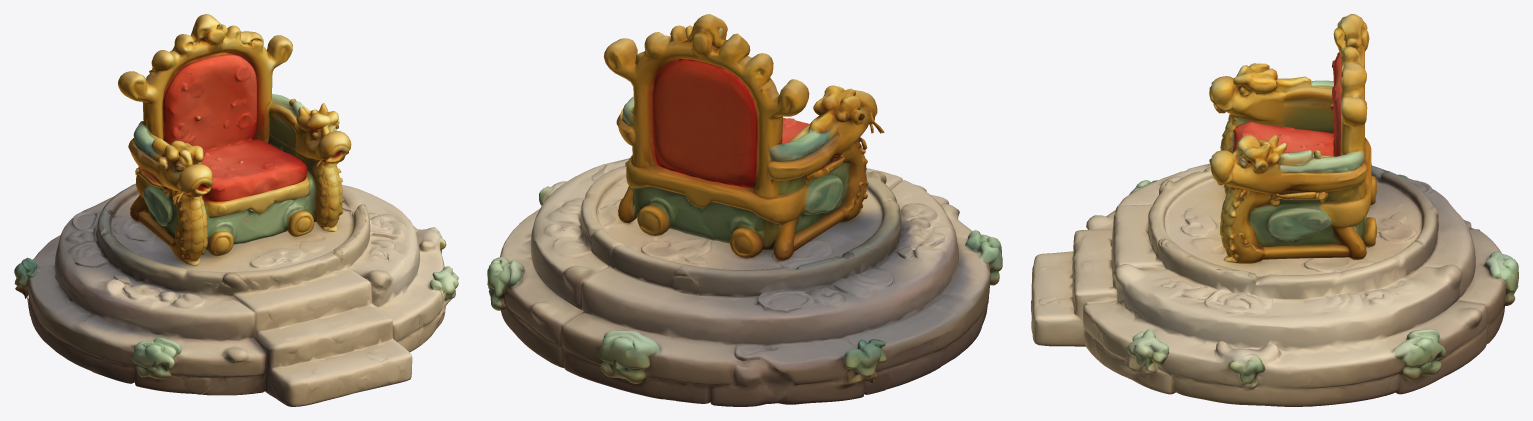
File: emperor-detail.glb
The picture shows the model from 3 angles, left to right: view 1: azimuth 30°, elevation 25°; view 2: azimuth 150°, elevation 25°; view 3: azimuth 270°, elevation 25°; orthographic projection. The views are drawn at different scales.
Parts seen in each view (by area): view 1: tripo_node_a0db8764-5008-46a6-81b3-e59025fe3bfe; view 2: tripo_node_a0db8764-5008-46a6-81b3-e59025fe3bfe; view 3: tripo_node_a0db8764-5008-46a6-81b3-e59025fe3bfe.
Boxes of the visible parts, x1,y1,x2,y2 form: tripo_node_a0db8764-5008-46a6-81b3-e59025fe3bfe: (14,14,458,406); tripo_node_a0db8764-5008-46a6-81b3-e59025fe3bfe: (487,14,1002,406); tripo_node_a0db8764-5008-46a6-81b3-e59025fe3bfe: (1031,14,1518,406).
Size of the model in its own units: 0.9421 by 0.6665 by 0.9801.
Materials: 1 (1 with a texture image).
